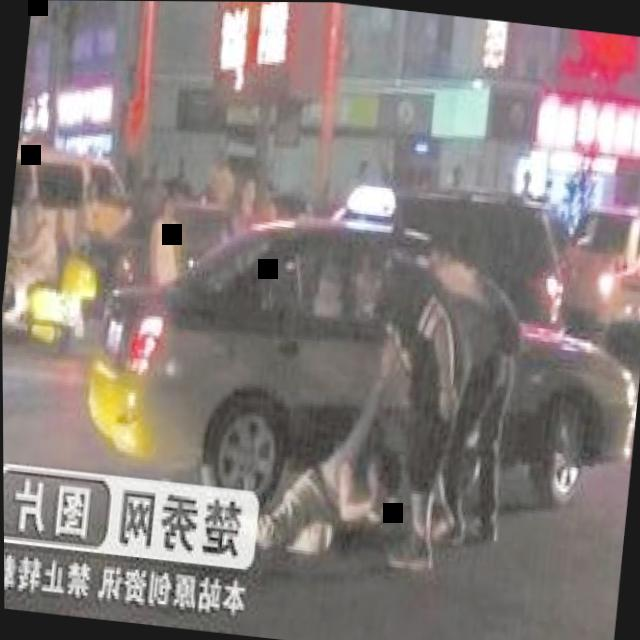Fall-Detected: (247, 416, 401, 575)
